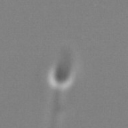normal: (35, 89, 71, 127)
